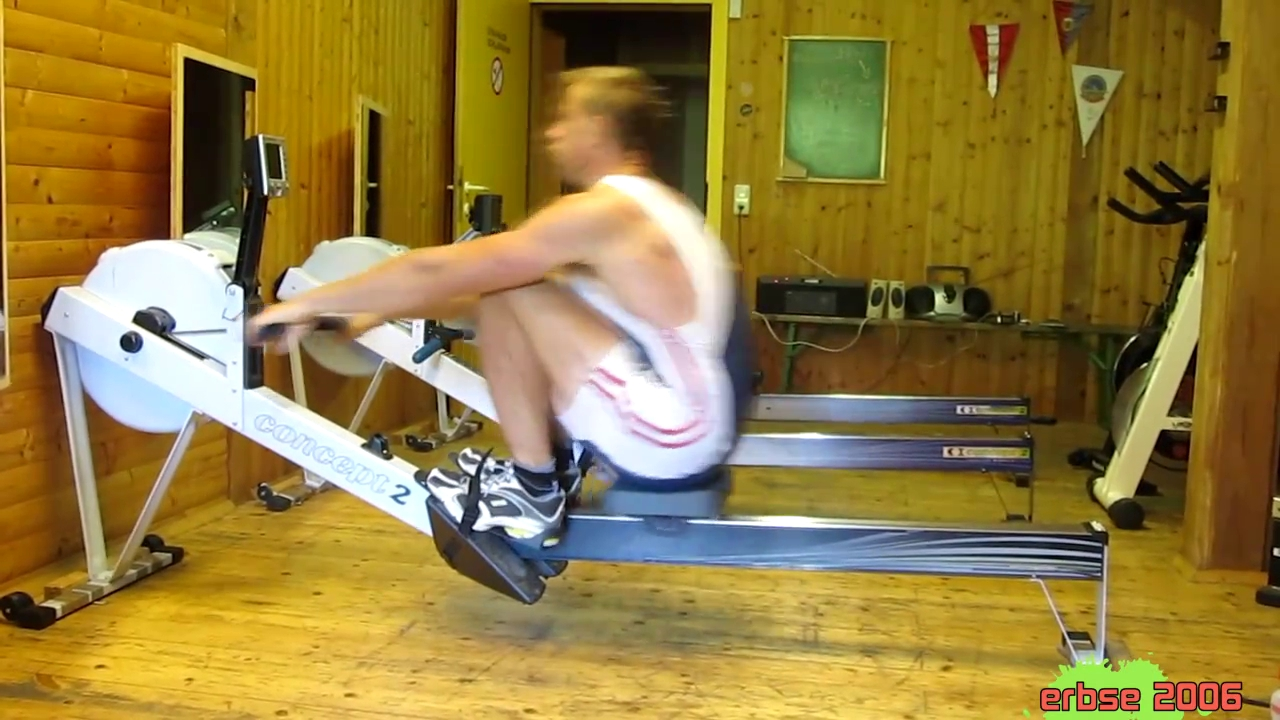person: (247, 67, 752, 552)
